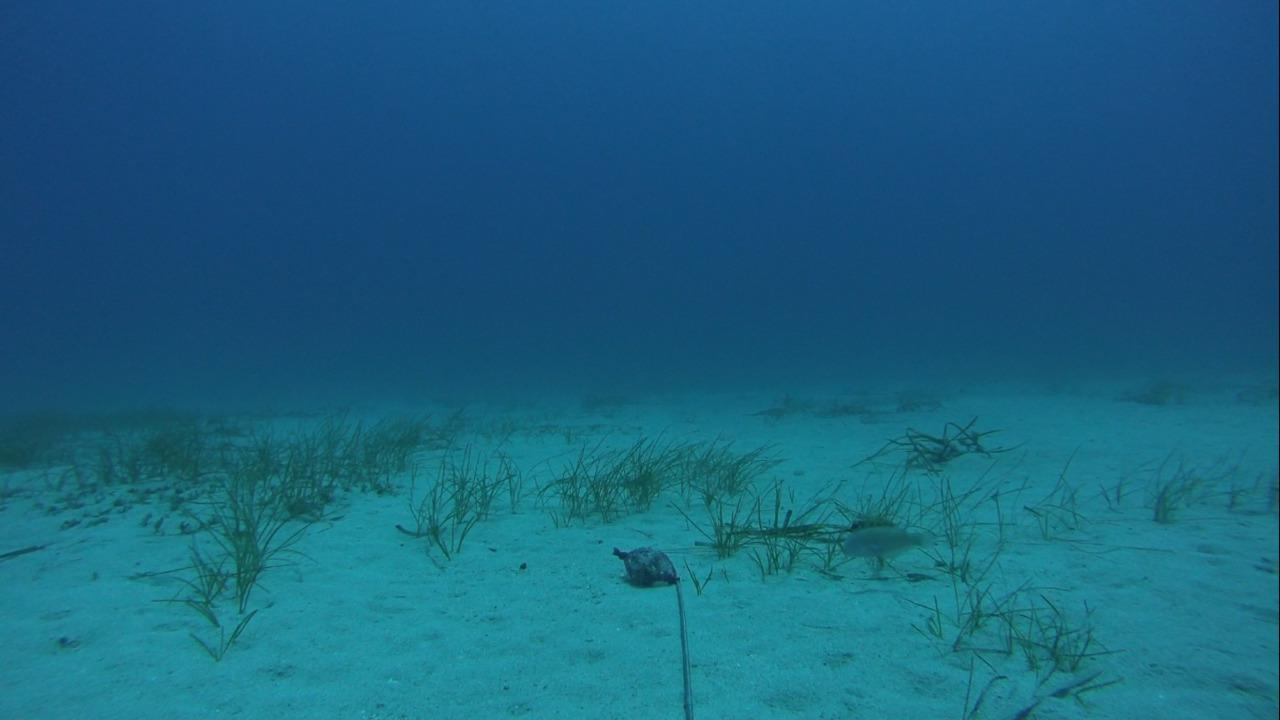raor: (838, 521, 933, 558)
